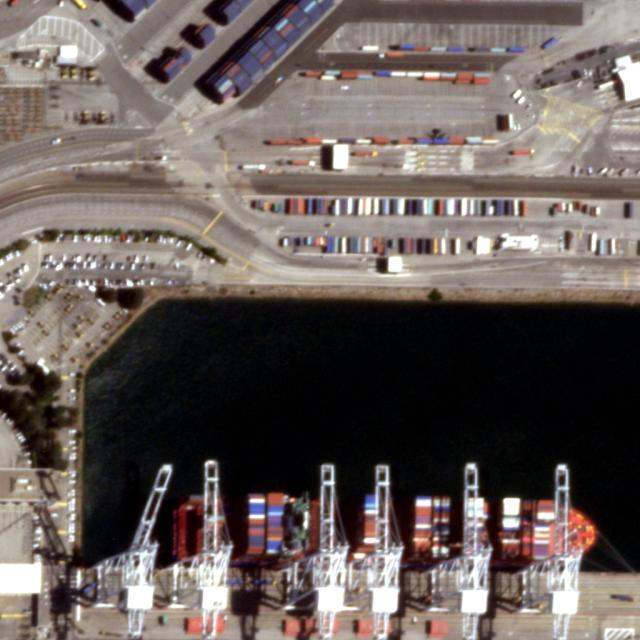boats: (175, 501, 588, 562)
crane: (121, 469, 178, 622), (459, 460, 492, 622), (371, 468, 402, 629), (551, 466, 581, 624), (199, 460, 222, 636), (320, 465, 340, 630)
